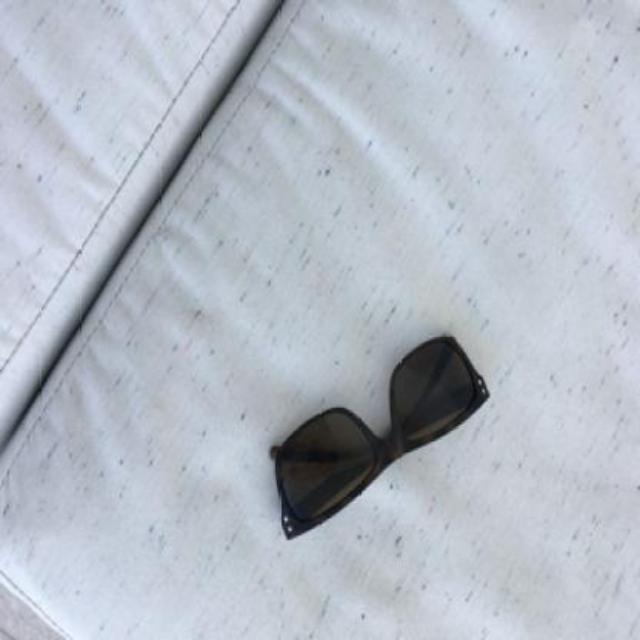glasses: (267, 333, 488, 537)
